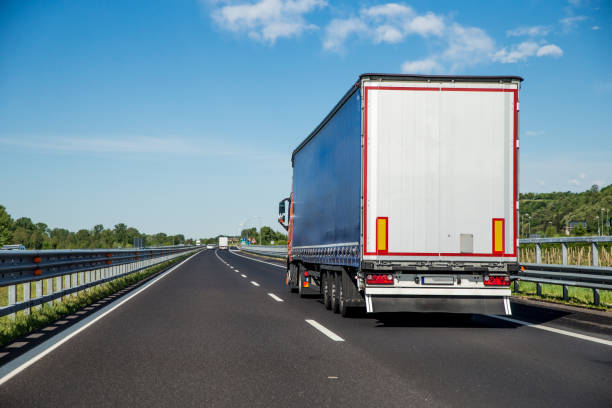Semi: (277, 72, 523, 315)
